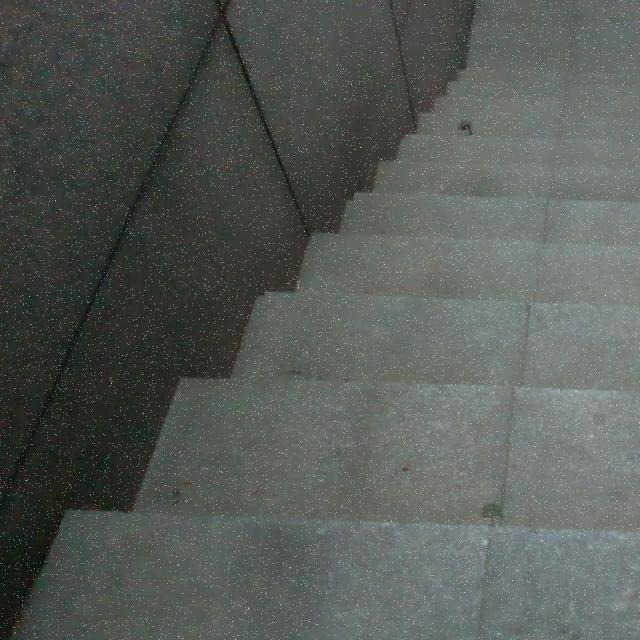stair: (147, 62, 640, 583)
